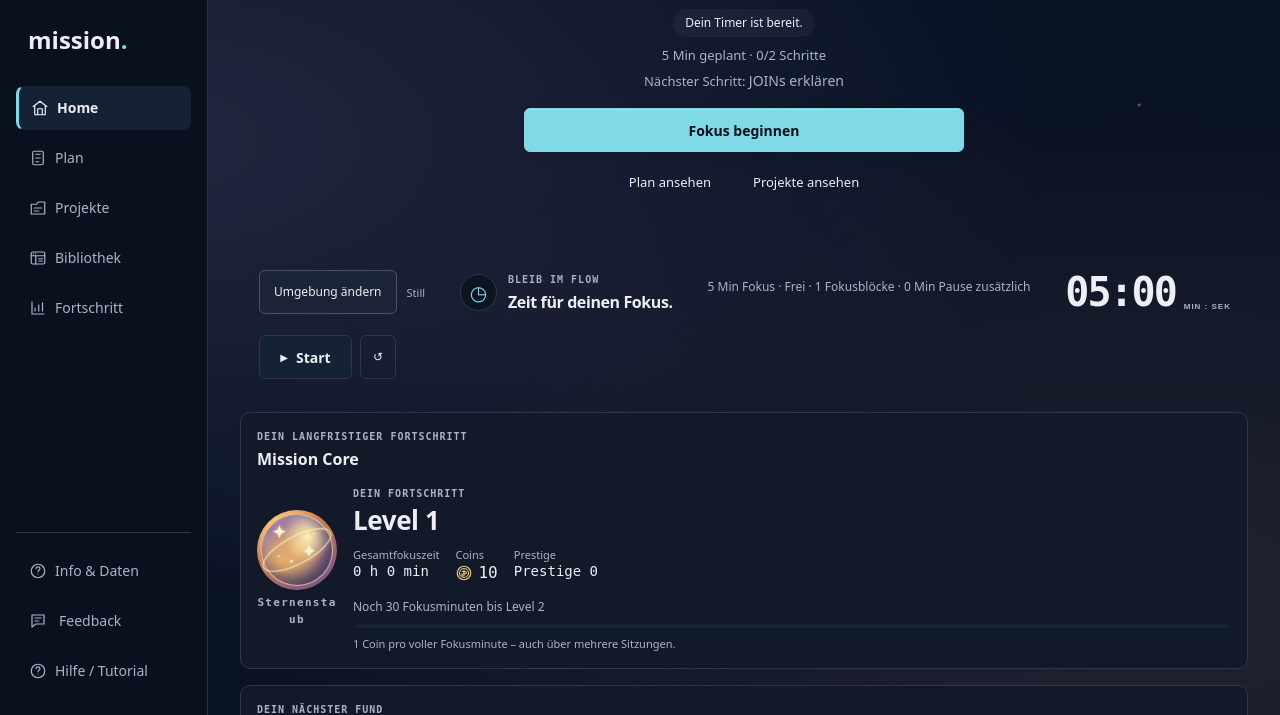
Minimalistischer Fokusmodus › zeigt bei Timer-Ende einen dezenten Abschluss und vergütet danach keine Zeit
(page scrolled)
Click the button "▶ Start".
click(306, 358)  # box left=259, top=336, right=352, bottom=380
Wait 500 ms
(page scrolled)
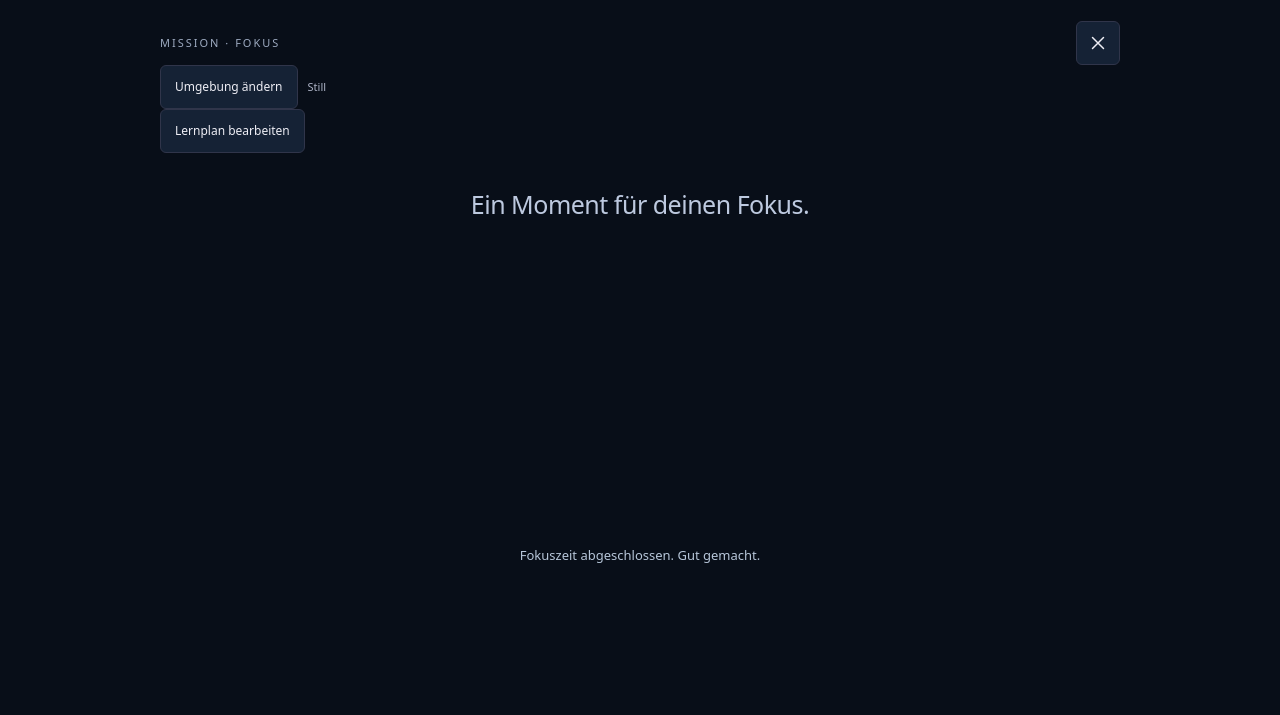
Expected: the message shows "Fokuszeit abgeschlossen", left=520, top=546, right=760, bottom=564
